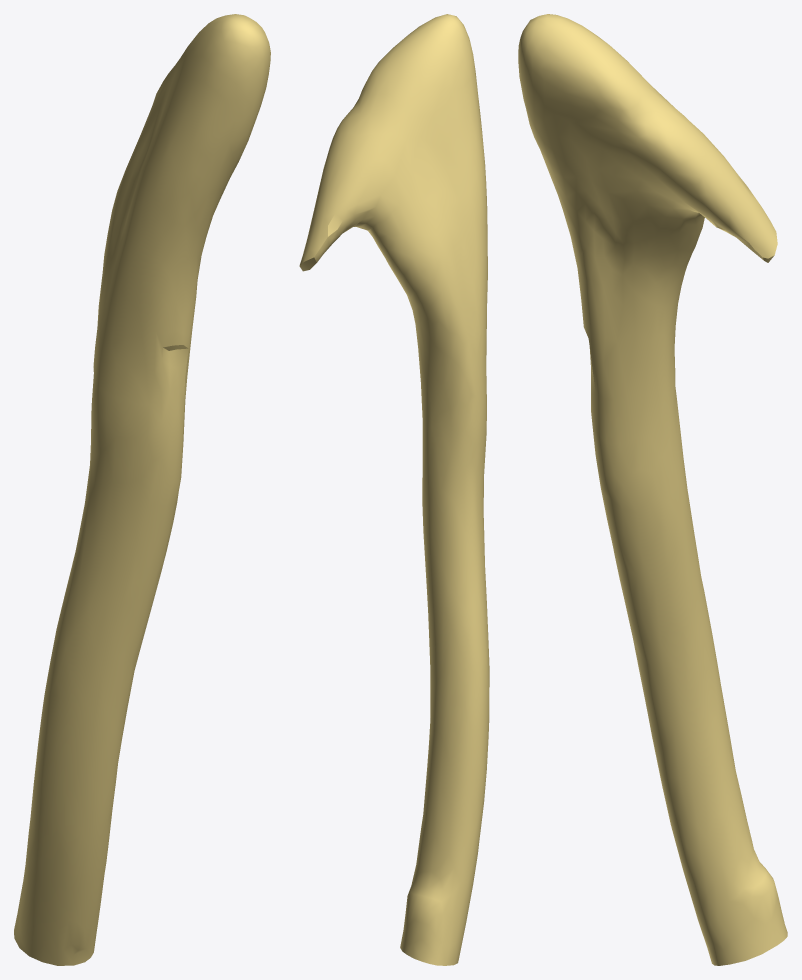
Rendered from fma73881-o_mm2687m.glb.
3 views of the same model, side by side, from view 1: azimuth 30°, elevation 25°; view 2: azimuth 150°, elevation 25°; view 3: azimuth 270°, elevation 25° (orthographic). The views are drawn at different scales.
Parts seen in each view (by area): view 1: FMA73881-O_MM2687M; view 2: FMA73881-O_MM2687M; view 3: FMA73881-O_MM2687M.
Part boxes in pixels (x1,y1,x2,y2): FMA73881-O_MM2687M: [14, 14, 270, 965]; FMA73881-O_MM2687M: [299, 14, 489, 965]; FMA73881-O_MM2687M: [518, 14, 787, 965].
Size of the model in its own units: 0.00493 by 0.0251 by 0.00623.
